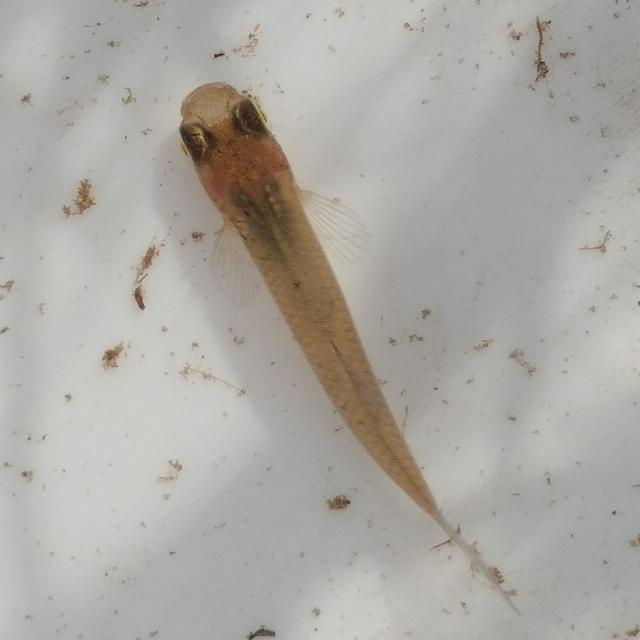Sivrisinek Baligi: (160, 58, 537, 618)
